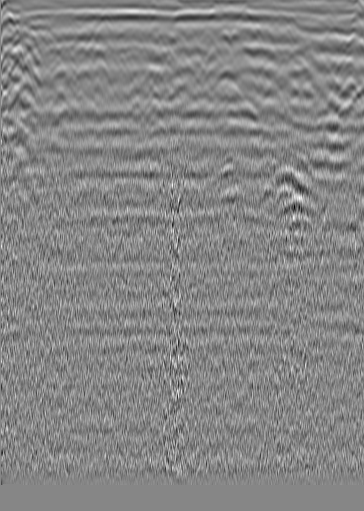가스: (212, 152, 245, 186)
상수: (322, 33, 342, 53)
오수: (16, 27, 36, 47)
우수: (171, 23, 191, 43)
